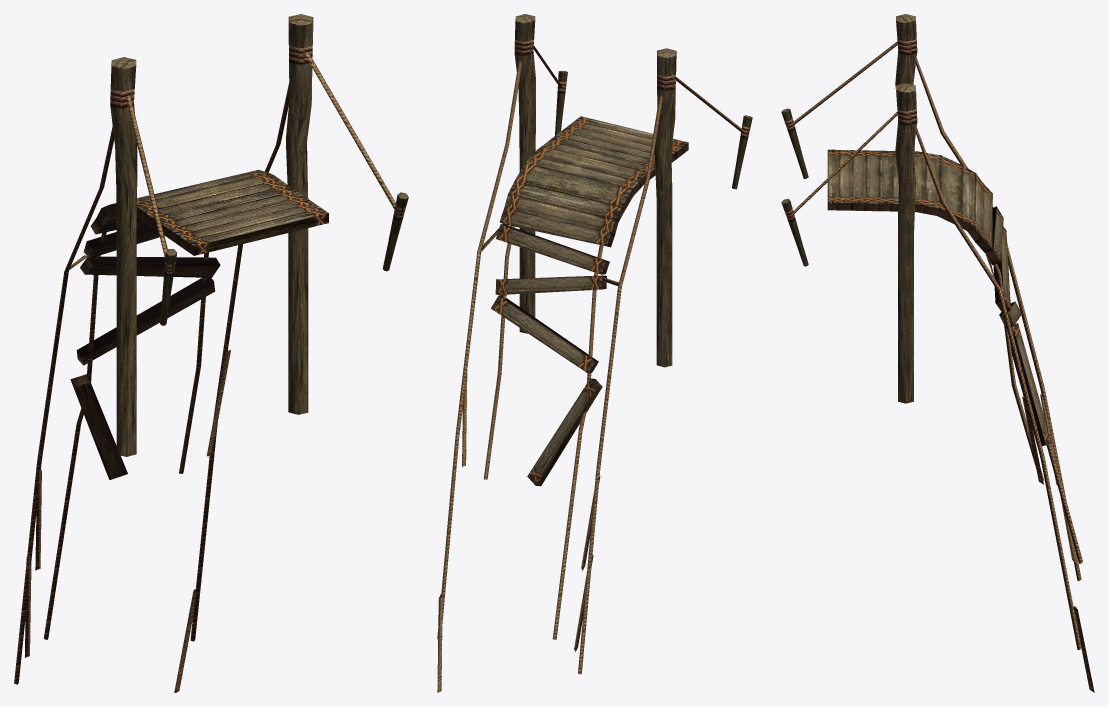
The model's file is general_obj_suspension bridge03.fbx.
The picture shows the model from 3 angles, left to right: view 1: azimuth 30°, elevation 25°; view 2: azimuth 150°, elevation 25°; view 3: azimuth 270°, elevation 25°; orthographic projection. The views are drawn at different scales.
Parts seen in each view (by area): view 1: general_obj_suspension bridge01; view 2: general_obj_suspension bridge01; view 3: general_obj_suspension bridge01.
Part boxes in pixels (box(x1,y1,x2,y2)): general_obj_suspension bridge01: box(14, 14, 408, 692); general_obj_suspension bridge01: box(437, 14, 752, 692); general_obj_suspension bridge01: box(781, 14, 1094, 692).
Size of the model in its own units: 5.63 by 17.01 by 7.91.
